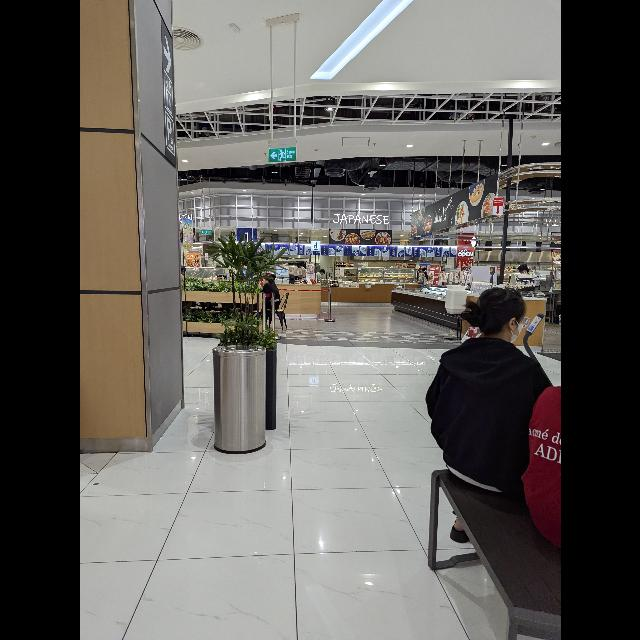exit: (268, 147, 295, 162)
